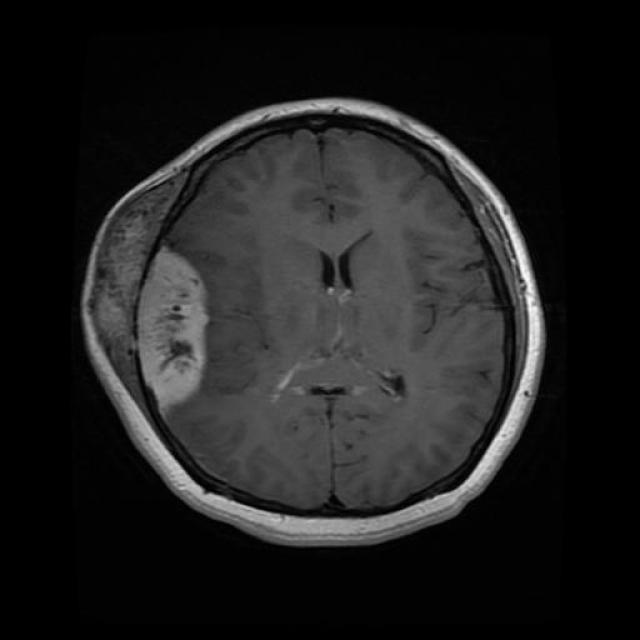Meningioma: (89, 167, 207, 411)
